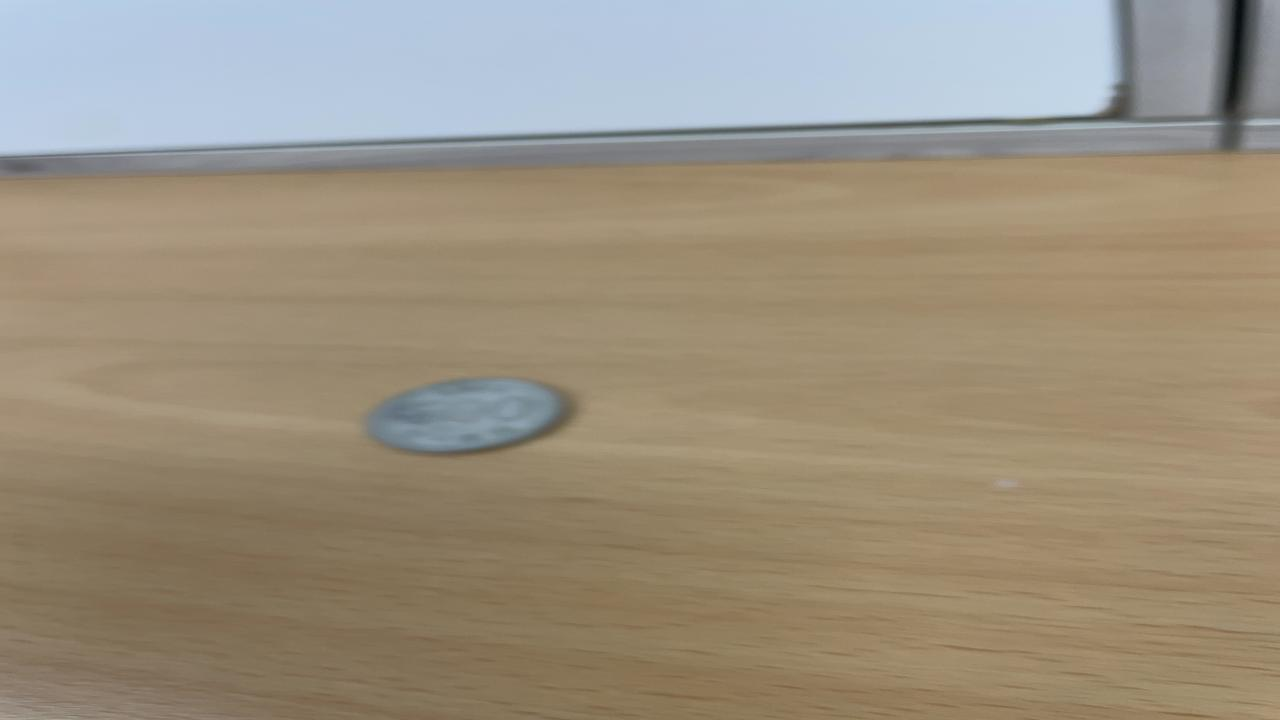coin: (360, 375, 570, 456)
